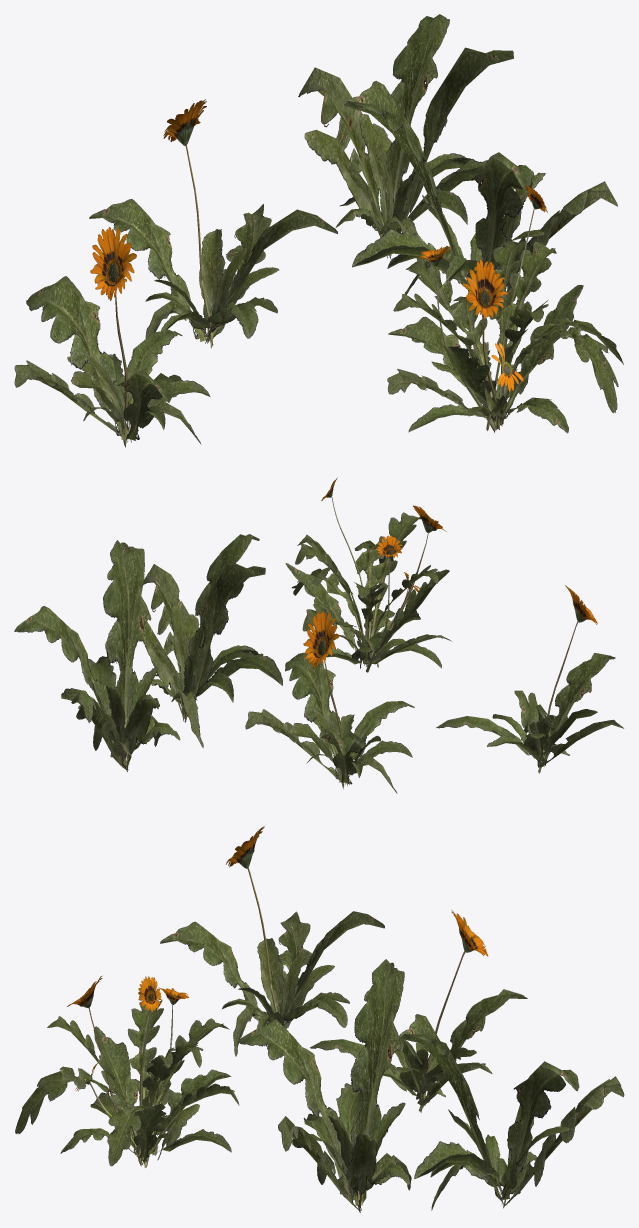
Rendered from flower_gazania_patch.fbx.
The picture shows the model from 3 angles, top to bottom: view 1: azimuth 30°, elevation 25°; view 2: azimuth 150°, elevation 25°; view 3: azimuth 270°, elevation 25°; orthographic projection. The views are drawn at different scales.
Parts seen in each view (by area): view 1: flower_gazania_patch; view 2: flower_gazania_patch; view 3: flower_gazania_patch.
Boxes of the visible parts, x1,y1,x2,y2 form: flower_gazania_patch: (14, 14, 623, 447); flower_gazania_patch: (14, 477, 623, 793); flower_gazania_patch: (15, 826, 624, 1212).
Bounding box in the file's own units: 0.8 × 0.3 × 0.7972.
1 material, 1 textured.
